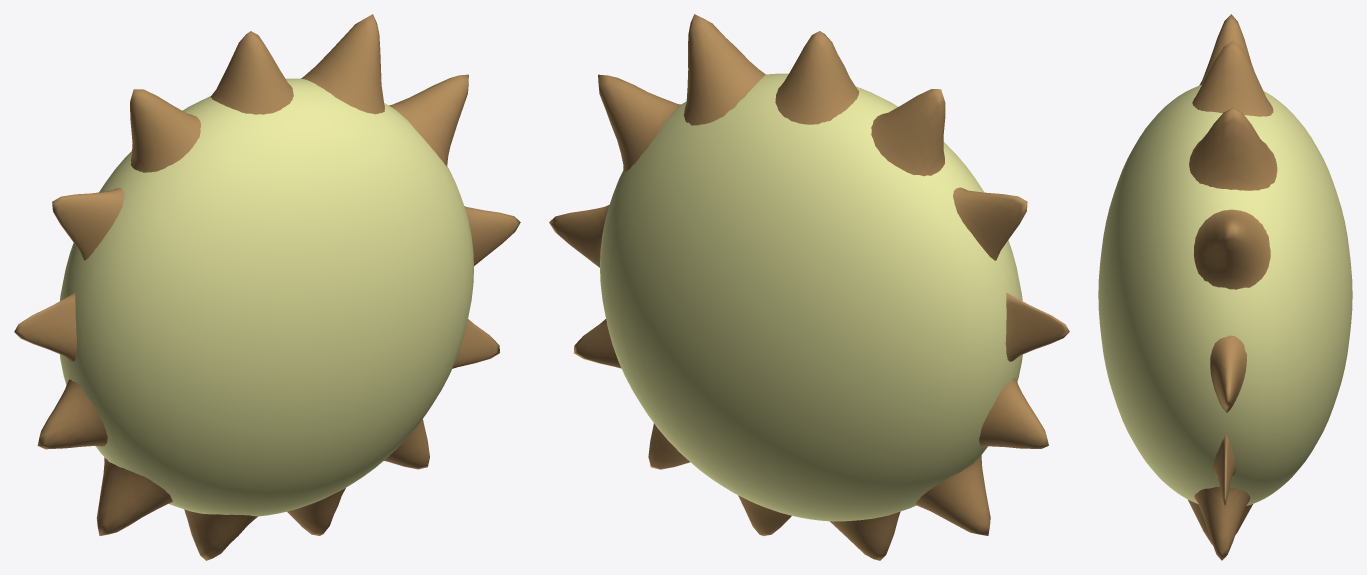
Rendered from Sun.fbx.
The picture shows the model from 3 angles, left to right: view 1: azimuth 30°, elevation 25°; view 2: azimuth 150°, elevation 25°; view 3: azimuth 270°, elevation 25°; orthographic projection. The views are drawn at different scales.
Visible parts, largest first — view 1: Sun; view 2: Sun; view 3: Sun.
Part boxes in pixels (x1,y1,x2,y2): Sun: (14, 14, 520, 560); Sun: (549, 14, 1069, 560); Sun: (1098, 14, 1352, 560).
Bounding box in the file's own units: 20.42 × 19.78 × 9.47.
